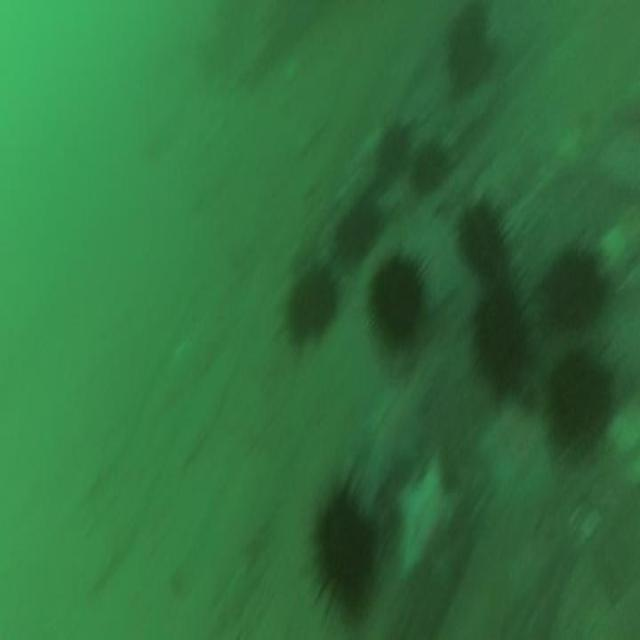echinus: (298, 450, 385, 636), (543, 226, 620, 338), (539, 343, 615, 455), (364, 246, 433, 362), (462, 283, 539, 382), (279, 250, 341, 354), (453, 190, 519, 286), (324, 185, 385, 275), (443, 13, 502, 101), (366, 118, 414, 185), (406, 132, 448, 198)
starfish: (389, 446, 463, 583), (476, 390, 554, 510)
